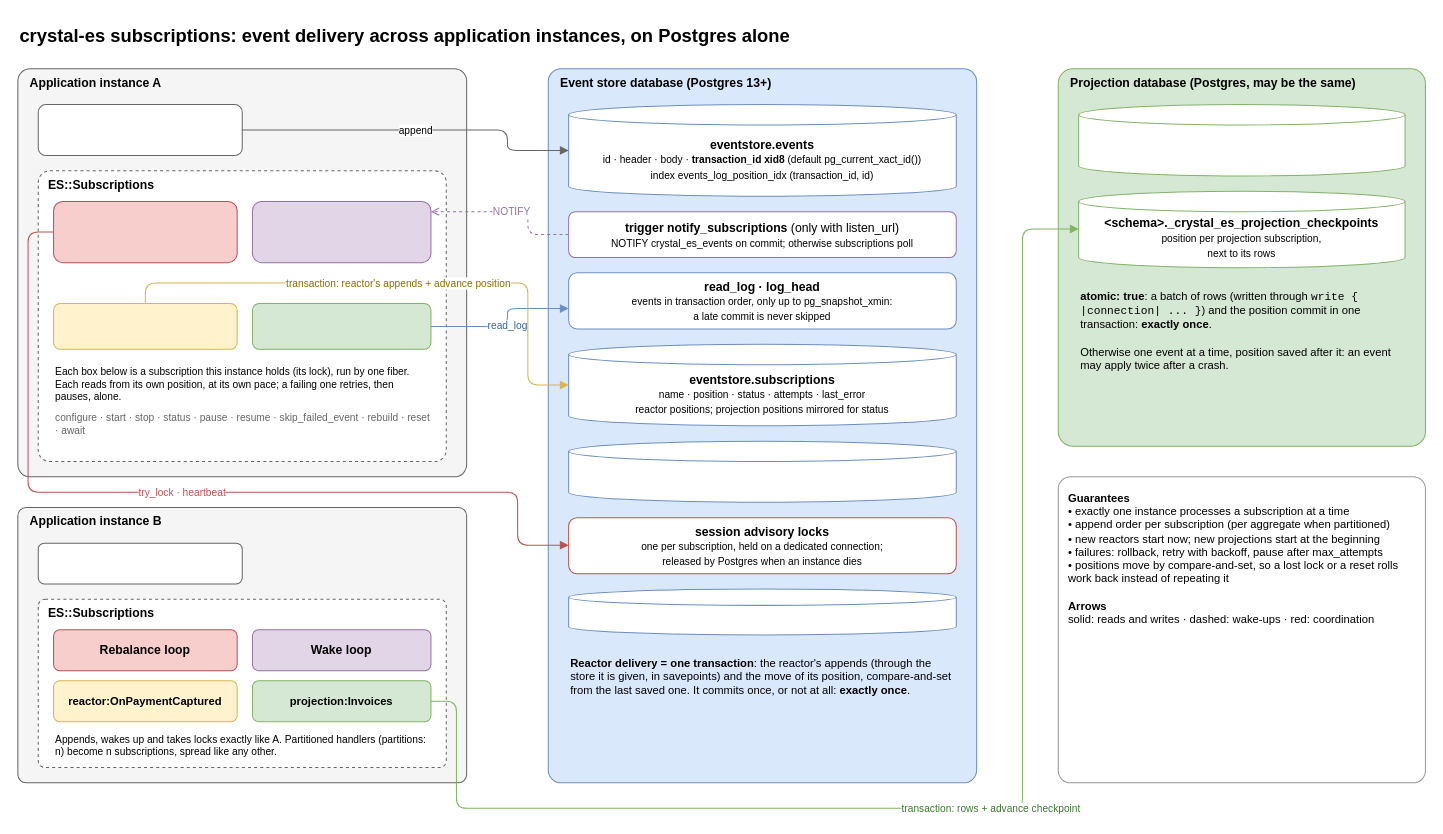
The diagram is 1443 pixels wide and 834 high, and some of its shapes have lost their labels. Here are the shapes that lost their labels. From the top down, the centre of each, then its label:
(139,130): Commands / API command handlers append events
(1241,140): projection tables e.g. shop.orders, billing.invoices
(145,231): Rebalance loop heartbeat · try_lock takes ceil(subscriptions / instances)
(341,231): Wake loop LISTEN (opt-in) and poll log_head signals the subscriptions it holds
(145,325): reactor:OnOrderPlaced
(341,325): projection:Orders
(762,471): eventstore.subscription_instances one heartbeat per running instance
(139,563): Commands / API
(762,611): eventstore.tag_versions (conditional appends)
